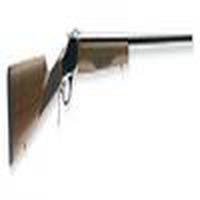gun: (10, 29, 197, 168)
